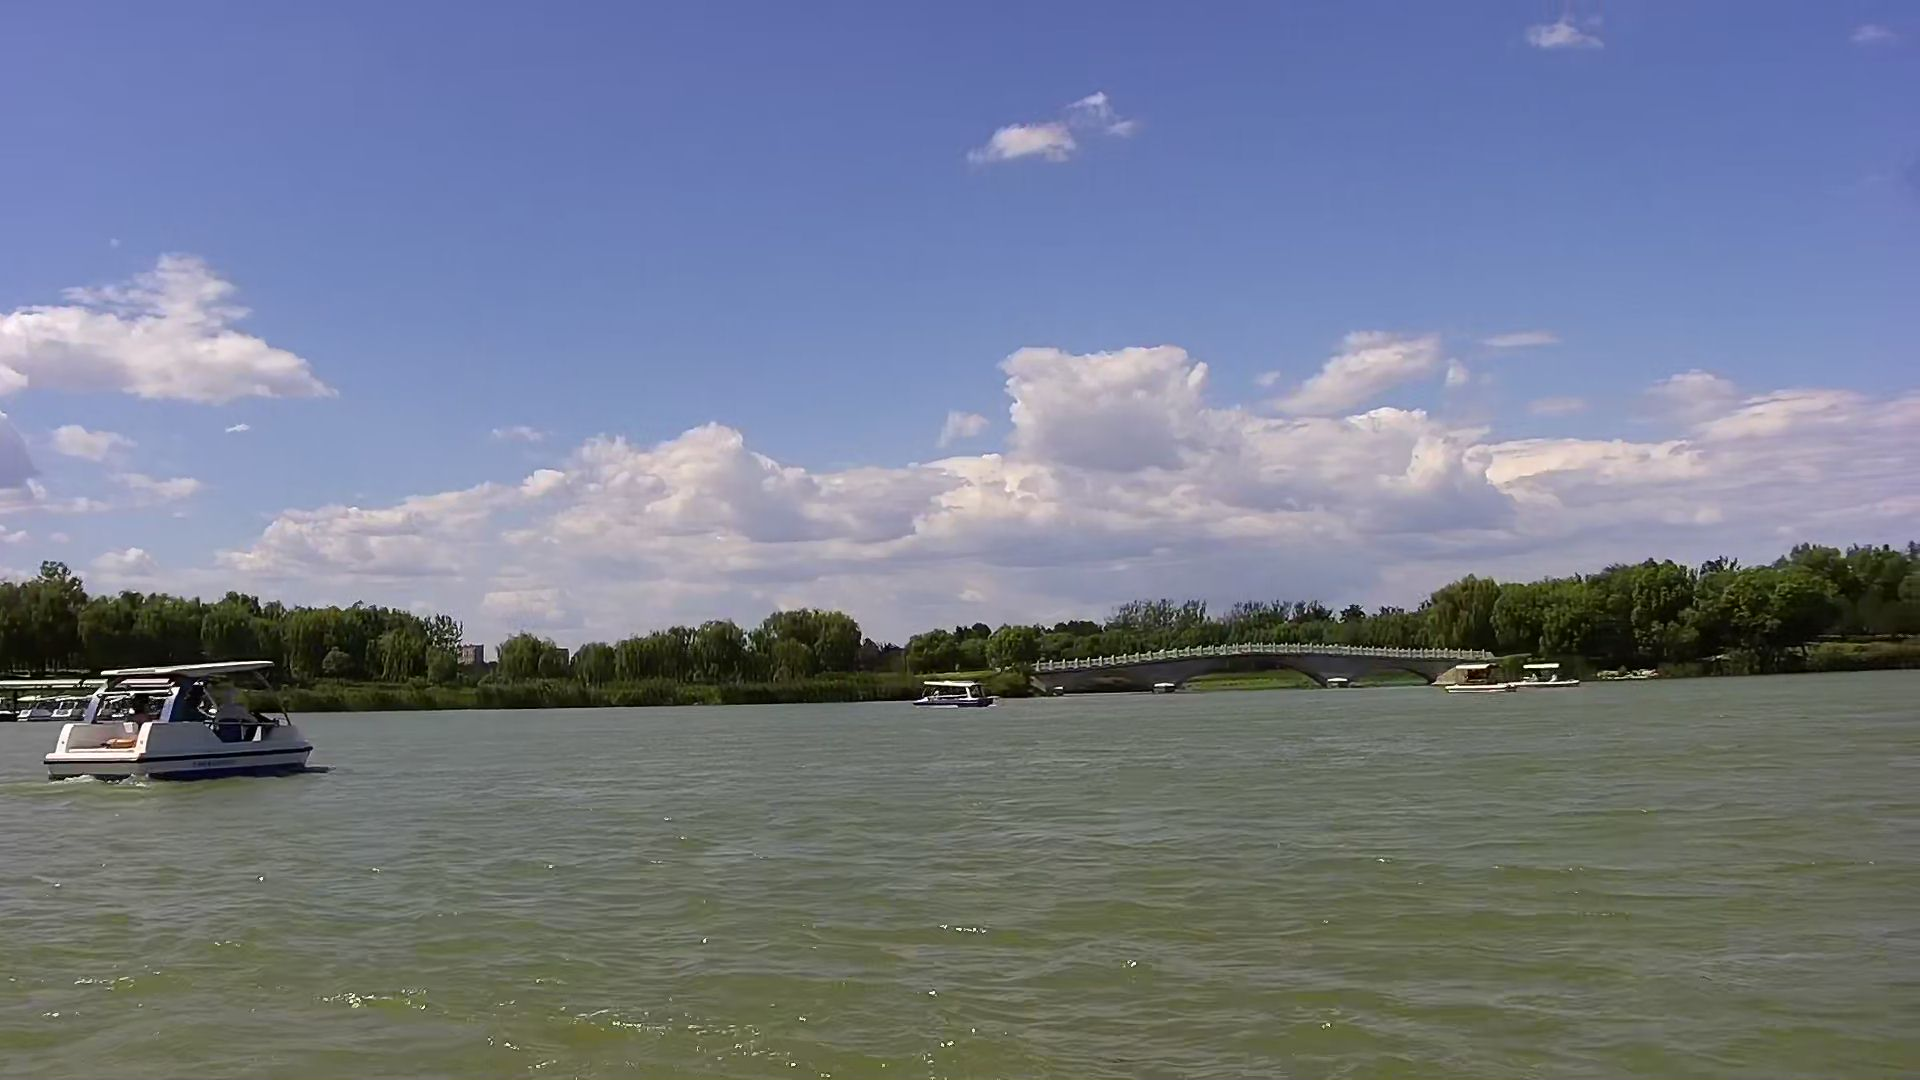boat: (42, 651, 338, 795), (910, 663, 997, 711), (1440, 650, 1509, 700), (1519, 654, 1580, 694)
bridge: (1055, 641, 1447, 699)
